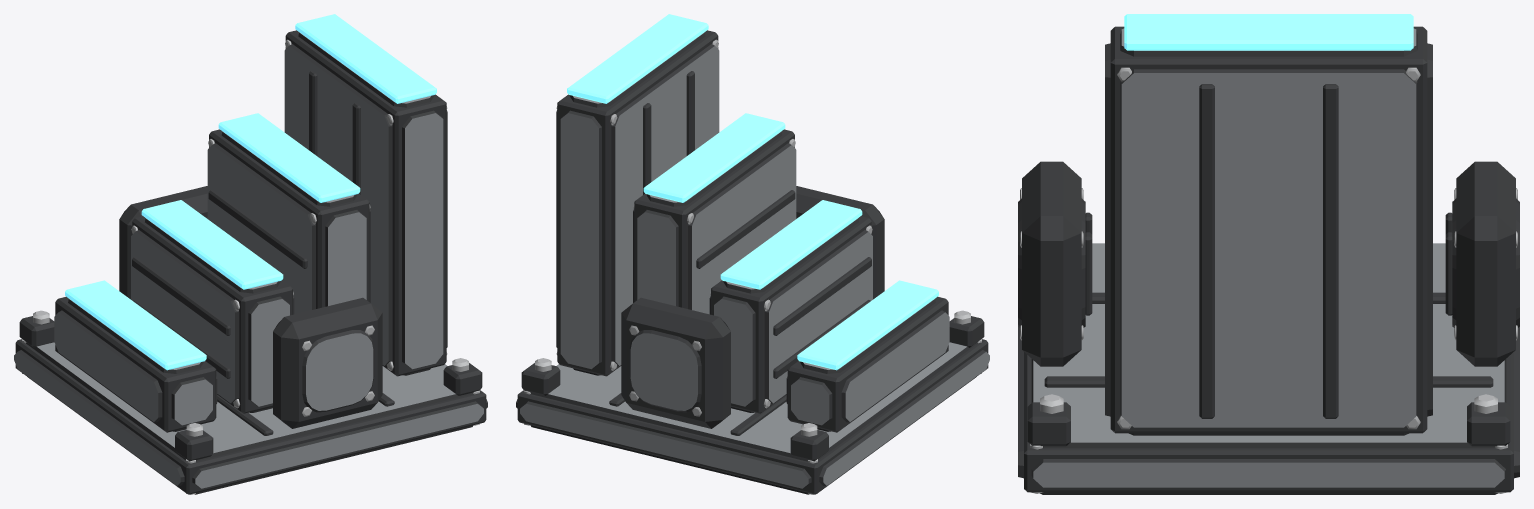
Rendered from R4X_ModuleAmplifier.fbx.
3 renders of one model, left to right at view 1: azimuth 30°, elevation 25°; view 2: azimuth 150°, elevation 25°; view 3: azimuth 270°, elevation 25°, orthographic. The views are drawn at different scales.
Parts seen in each view (by area): view 1: R4X_ModuleAmplifier_Body; view 2: R4X_ModuleAmplifier_Body; view 3: R4X_ModuleAmplifier_Body.
Part boxes in pixels (left/top/right/bottom): R4X_ModuleAmplifier_Body: left=14, top=14, right=487, bottom=494; R4X_ModuleAmplifier_Body: left=516, top=14, right=989, bottom=494; R4X_ModuleAmplifier_Body: left=1018, top=14, right=1519, bottom=494.
Size of the model in its own units: 0.52 by 0.512 by 0.52.
